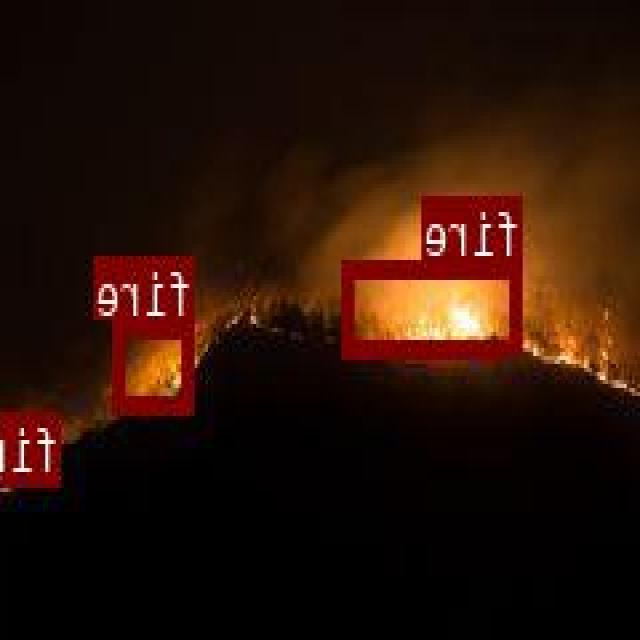fire: (345, 256, 523, 356), (116, 317, 195, 408), (8, 412, 63, 482)
